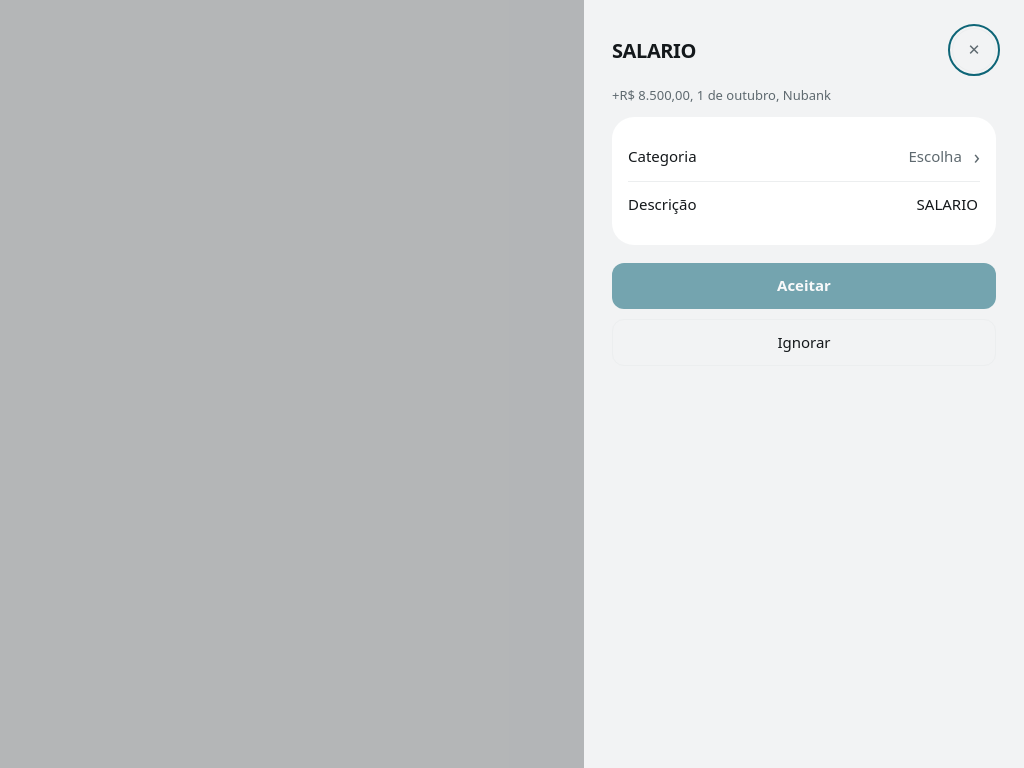
Scenario: InboxSheet › only offers the categories of the kind of the line
The image size is (1024, 768).
What coordinates should you click on to do the following:
click the button "Categoria Escolha ›"
I would click on:
 (662, 156)
Its box is left=628, top=133, right=980, bottom=181.
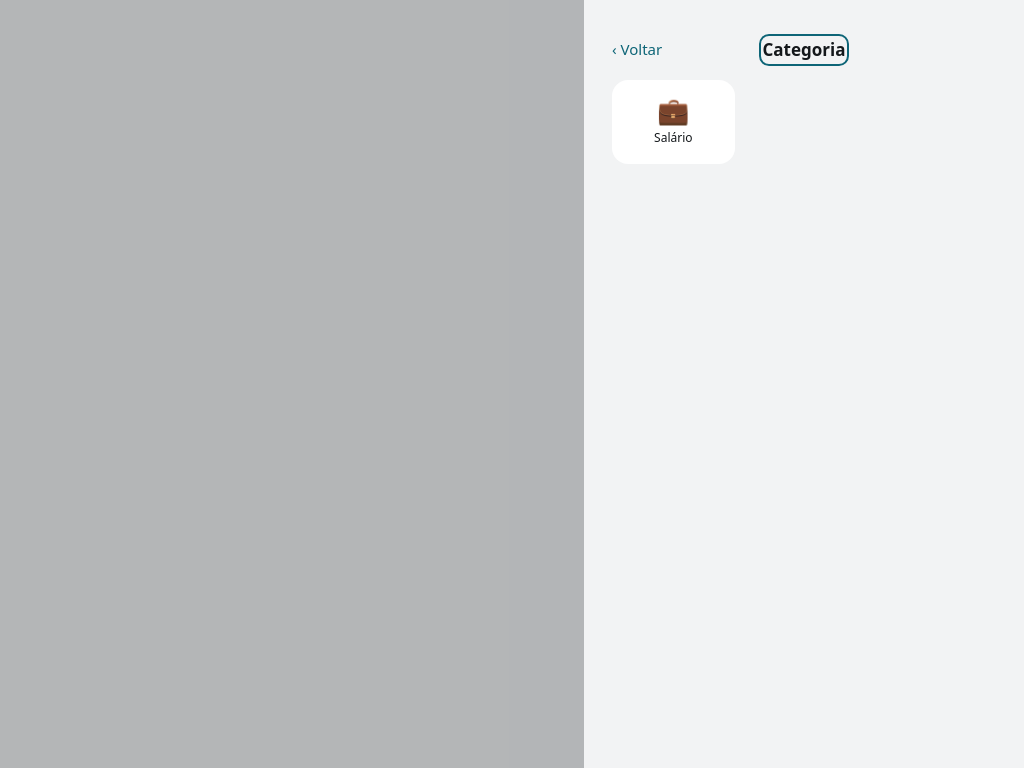
expect the button "💼 Salário" is shown: met, box left=612, top=80, right=735, bottom=164
